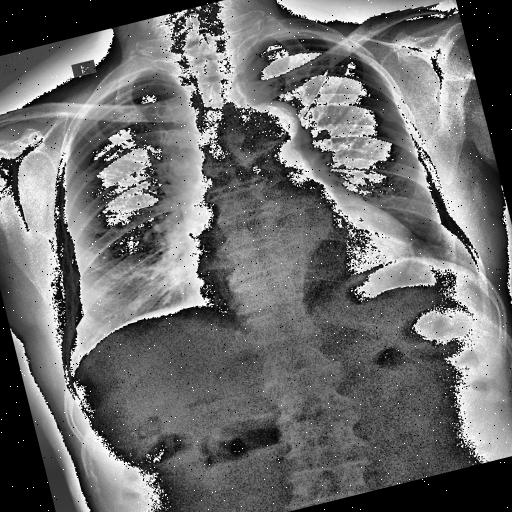0- Aortic enlargement: (226, 96, 310, 165), (219, 94, 305, 160), (240, 94, 304, 150)
3- Cardiomegaly: (182, 187, 420, 310), (192, 216, 438, 334), (190, 212, 429, 316)
8- Nodule-Mass: (102, 255, 107, 259)
9- Other lesion: (378, 106, 398, 128), (377, 108, 396, 126)
